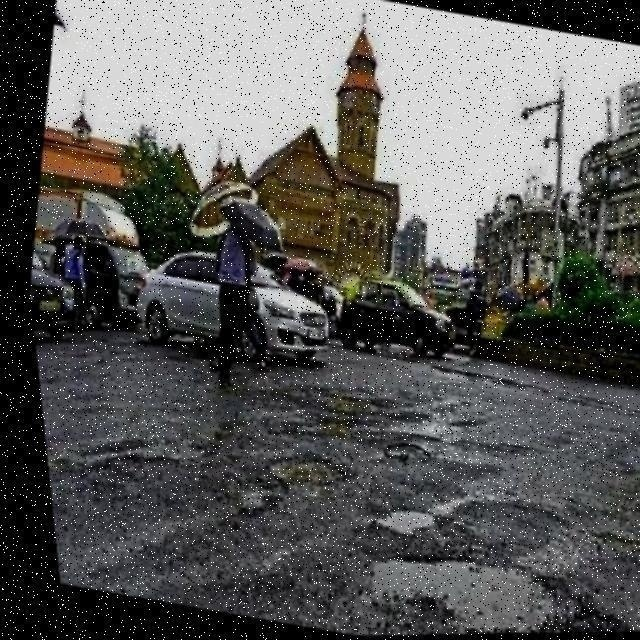pothole: (343, 536, 555, 636), (253, 443, 341, 497), (360, 498, 430, 544)
